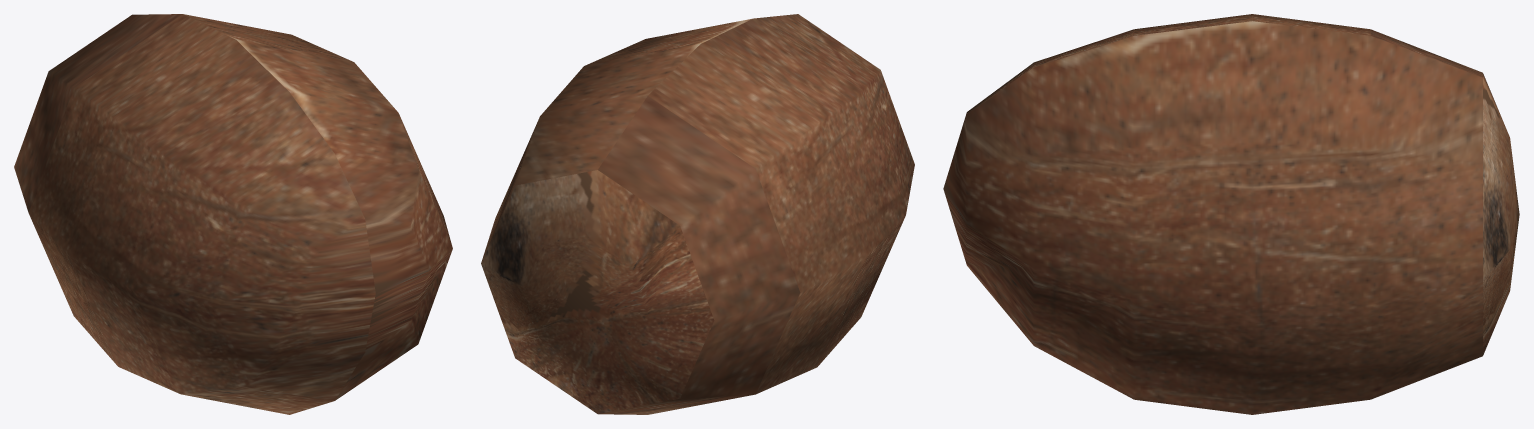
File: Coconut.fbx
3 renders of one model, left to right at view 1: azimuth 30°, elevation 25°; view 2: azimuth 150°, elevation 25°; view 3: azimuth 270°, elevation 25°, orthographic. The views are drawn at different scales.
Parts seen in each view (by area): view 1: Sphere; view 2: Sphere; view 3: Sphere.
Boxes of the visible parts, left/top/right/bottom form: Sphere: left=14, top=14, right=452, bottom=414; Sphere: left=481, top=14, right=914, bottom=414; Sphere: left=943, top=14, right=1519, bottom=414.
Size of the model in its own units: 34.66 by 34.66 by 46.81.
Materials: 1 (1 with a texture image).
